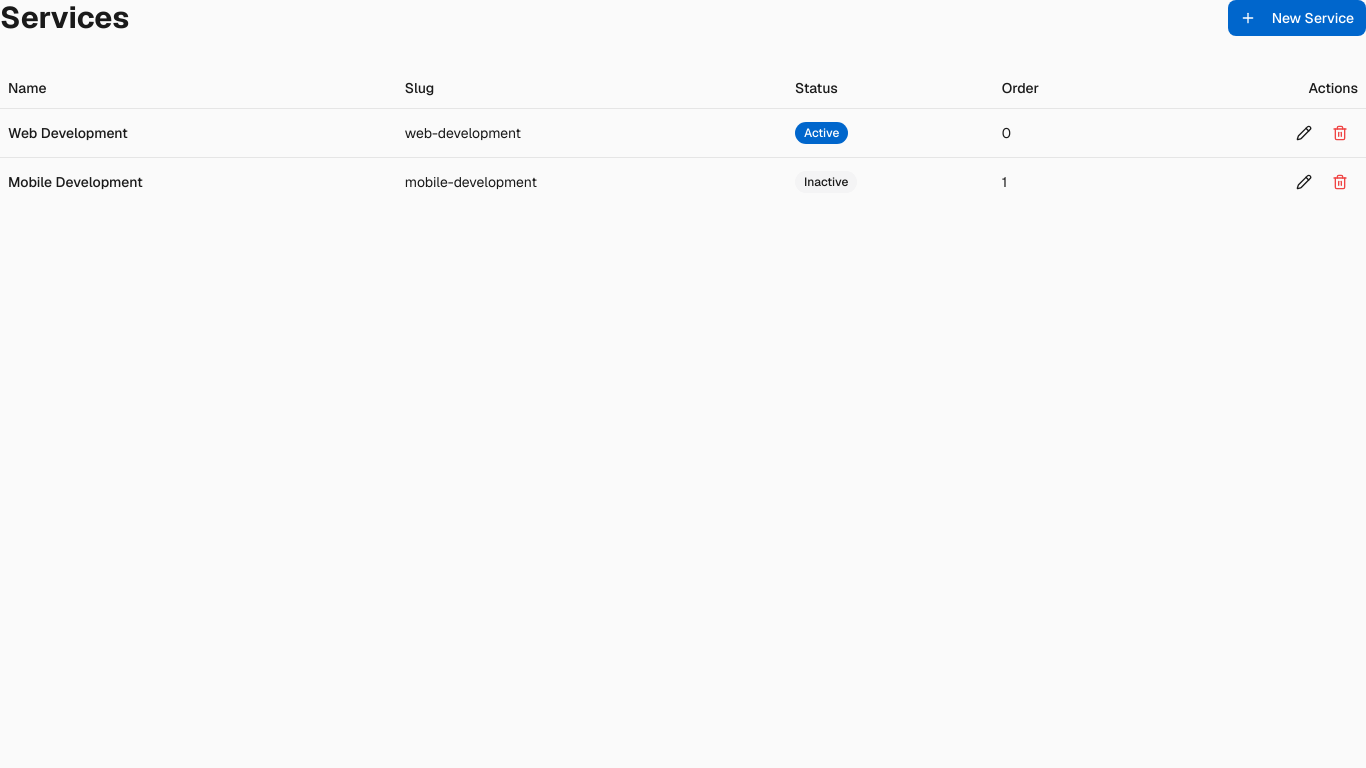
AdminServicesPage › shows confirmation dialog when deleting a service
Expected: the text "Web Development" is shown, x1=0 y1=108 x2=397 y2=157
Click the button named "delete" in the row of "Web Development" at (1340, 132), box x1=1322 y1=116 x2=1358 y2=148
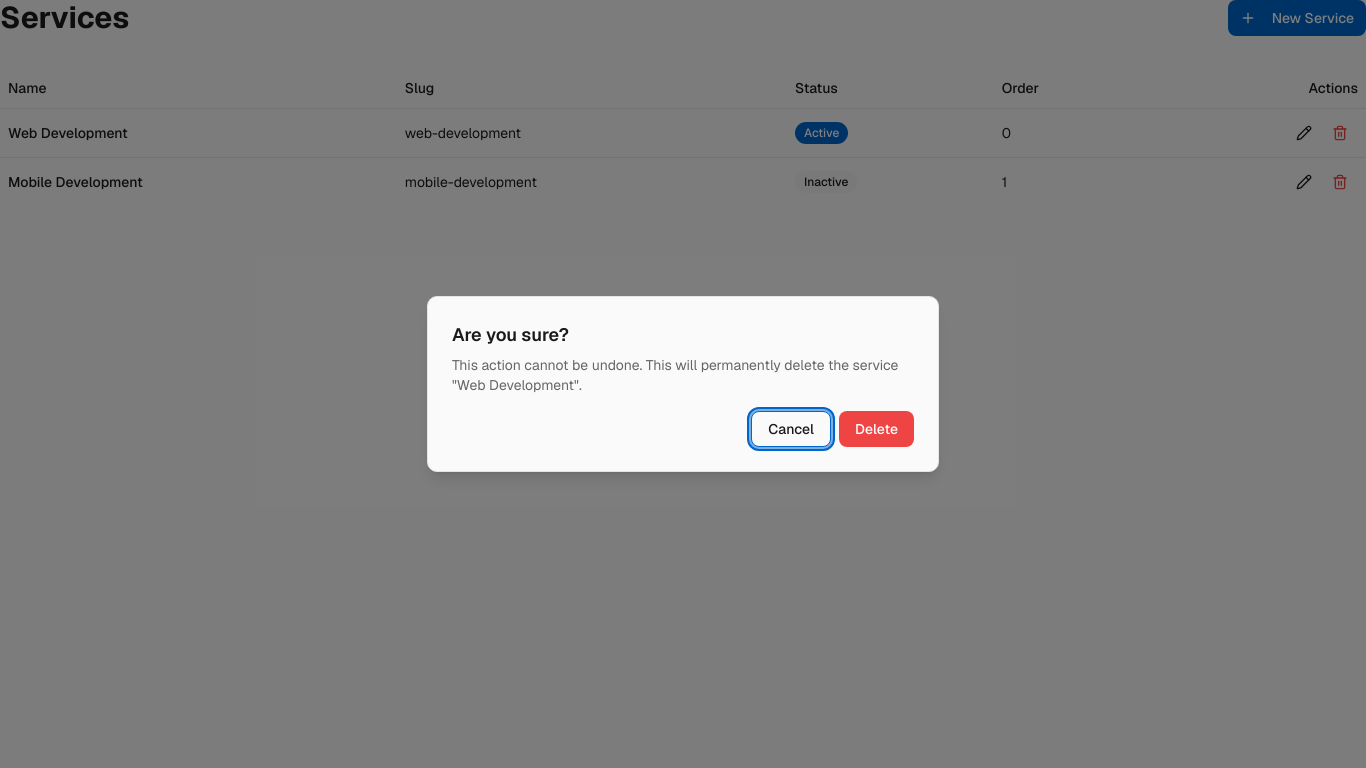
Now the heading "Are you sure?" is shown, box x1=452 y1=321 x2=569 y2=349
